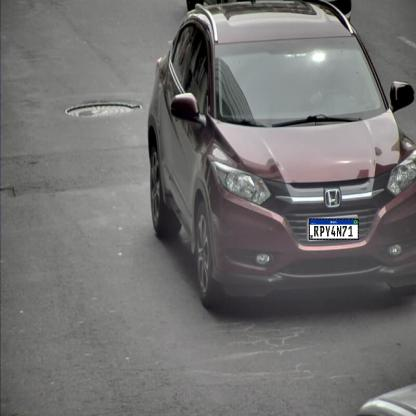PlacaM: (309, 218, 359, 240)
